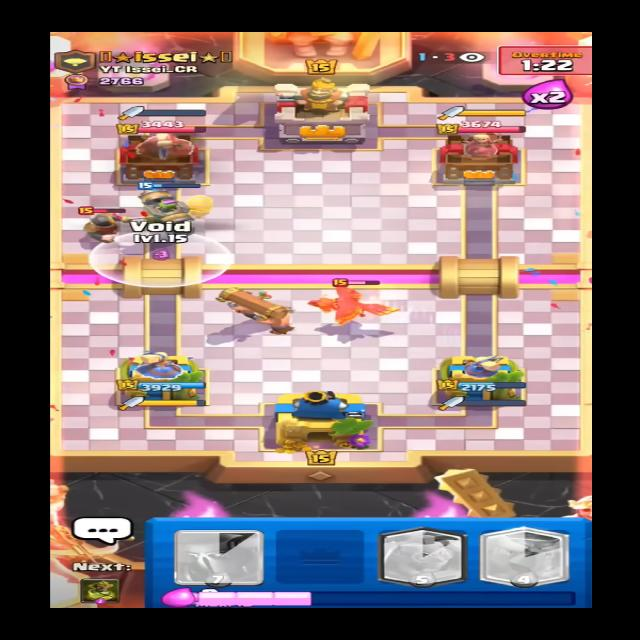Knight: (75, 199, 135, 247)
Pheonix: (299, 277, 409, 328)
